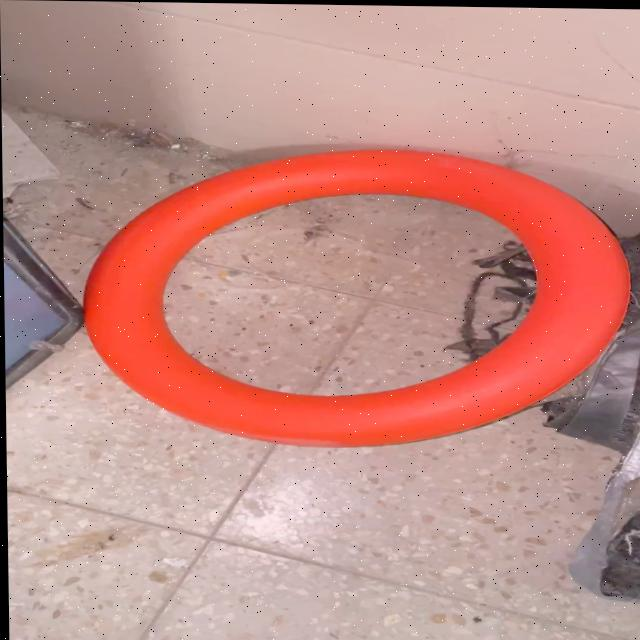note: (76, 143, 634, 452)
